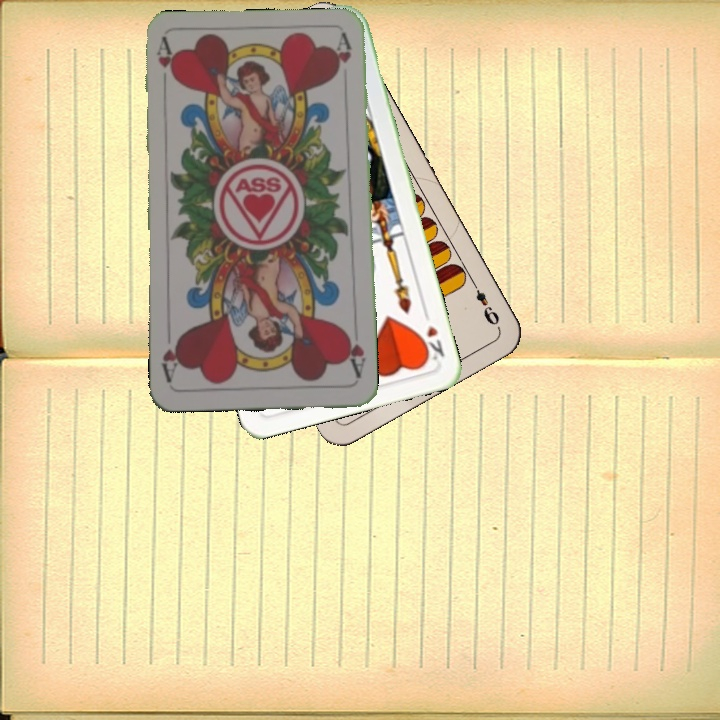E9: (467, 276, 502, 329)
HA: (341, 326, 369, 381), (153, 36, 178, 95)
HK: (416, 306, 447, 366)
